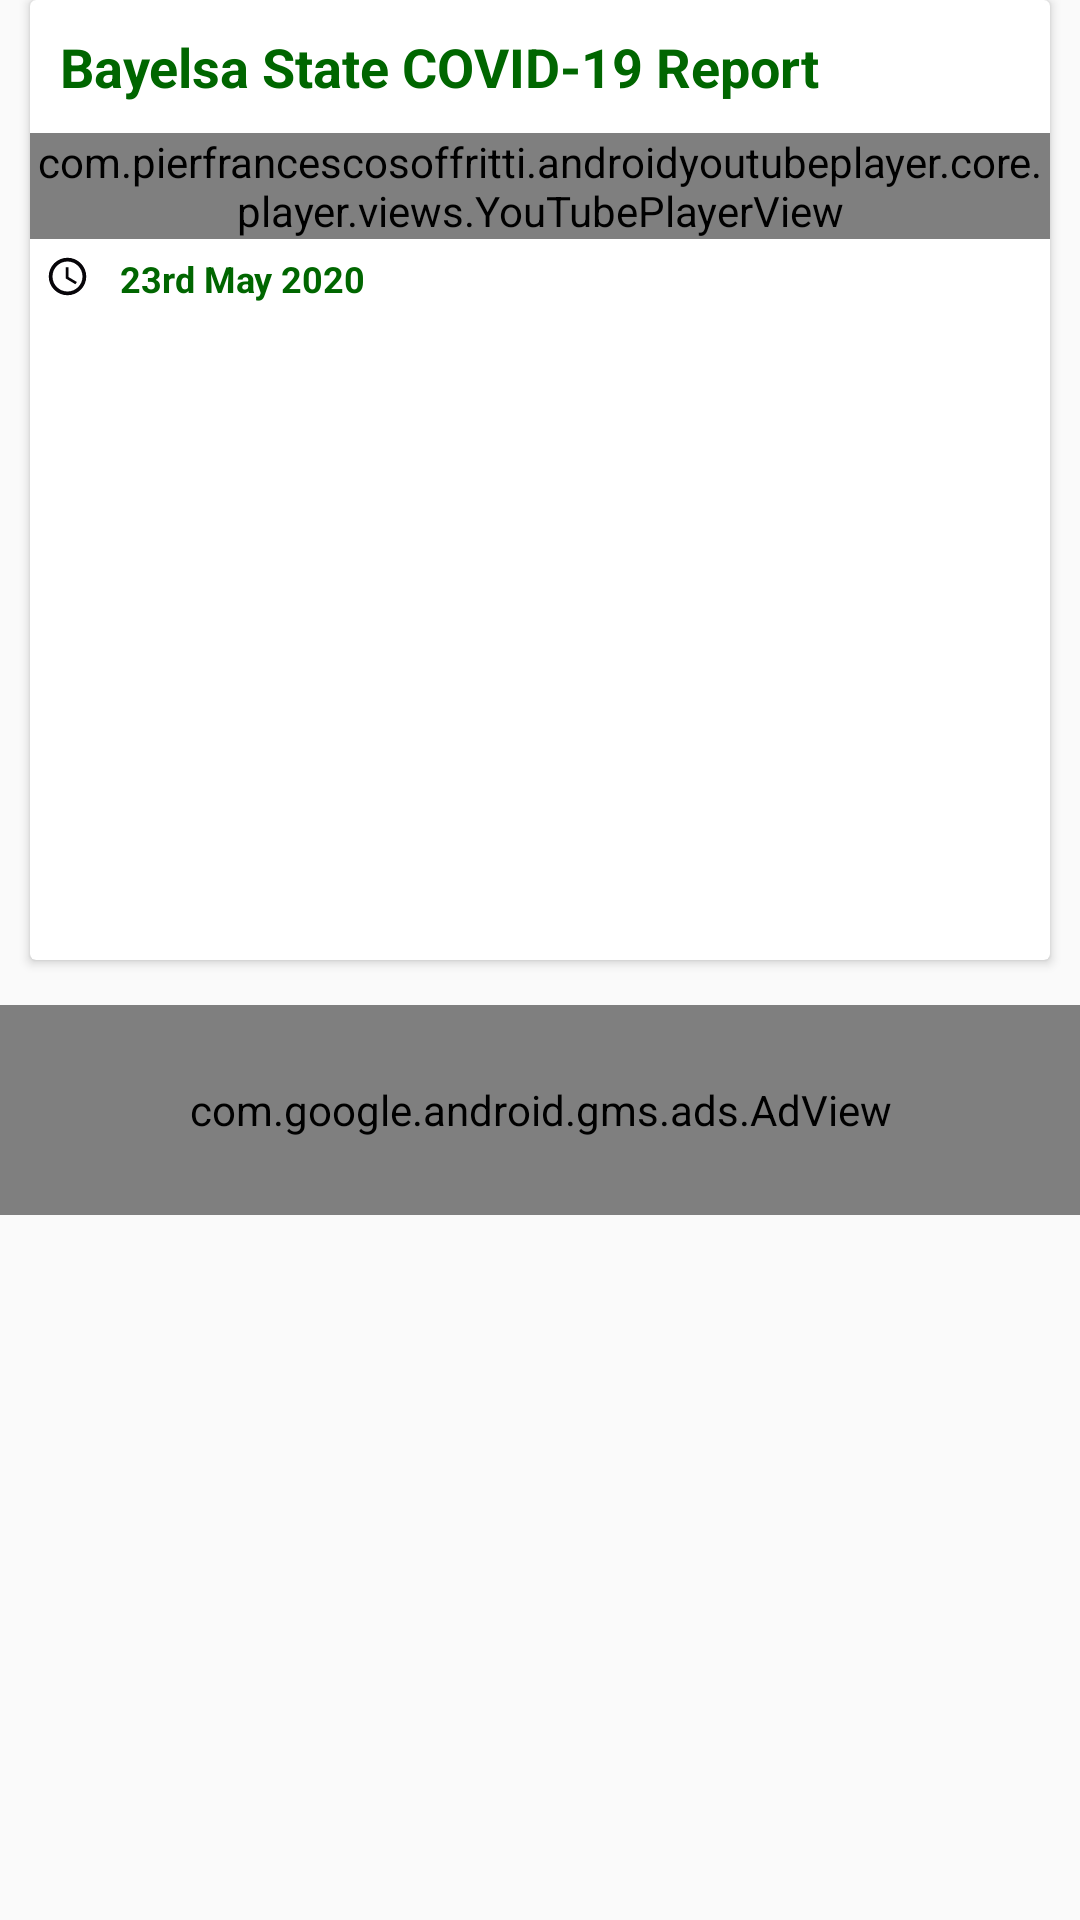

Where to tap for icons on this 1080px×1920px app screen, as (x=x, y=y):
bigtimer: (x=67, y=276)
